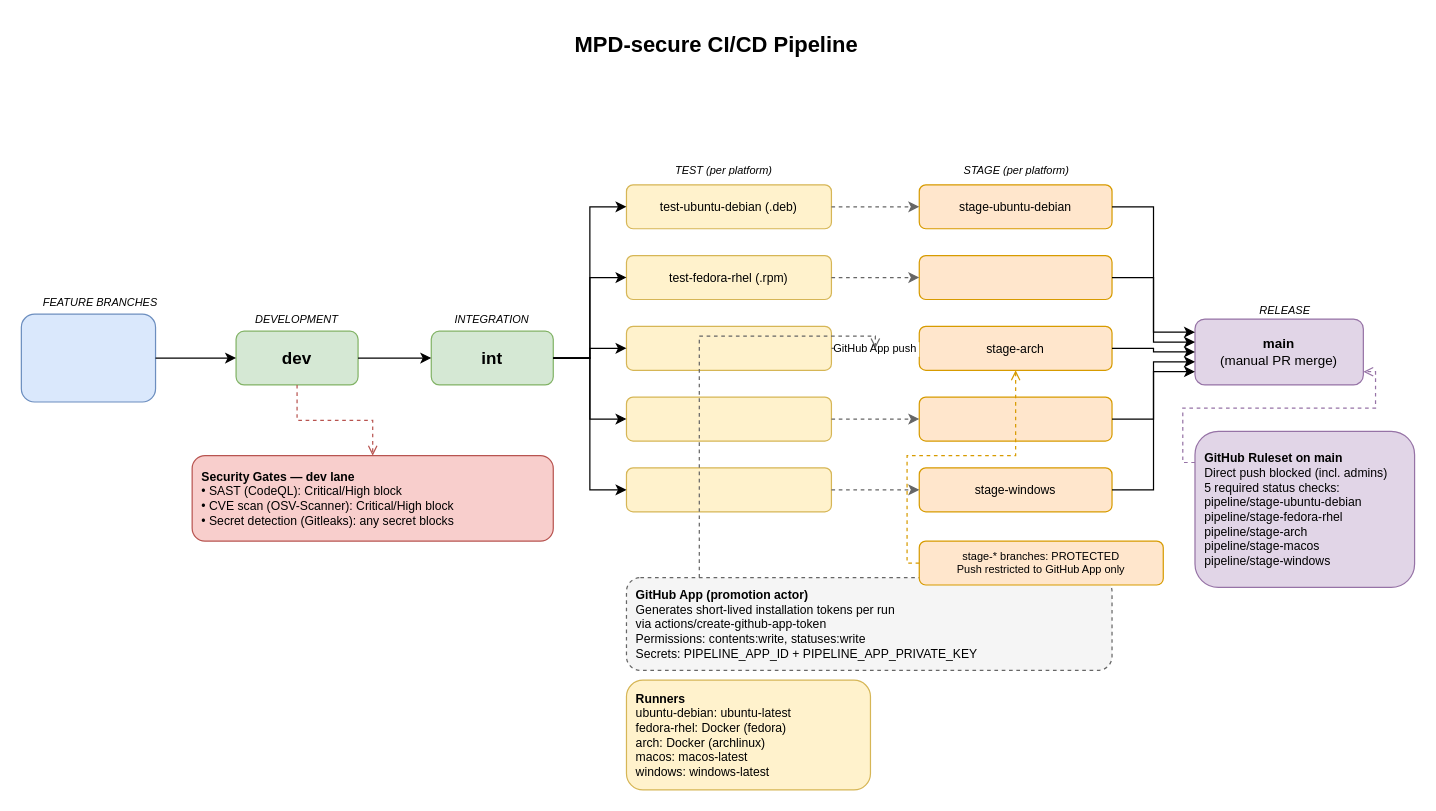
Some shapes in this 1436 by 811 pixel diagram are drawn without their labels. The shapes that lost their labels are listed below. From the top down, each one's centre as x and y in pixels, then its label:
At [1015,277]: "stage-fedora-rhel".
At [88,357]: "feature/* chore/* fix/*".
At [728,347]: "test-arch (.pkg.tar.zst)".
At [728,418]: "test-macos (Homebrew/.pkg)".
At [1015,418]: "stage-macos".
At [728,489]: "test-windows (WiX installer)".
